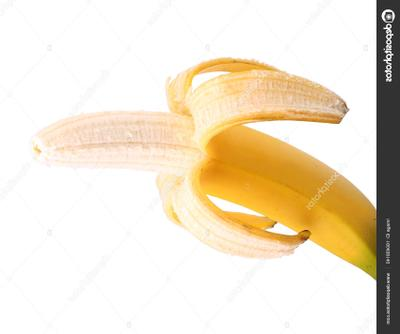banana: (0, 0, 400, 334)
